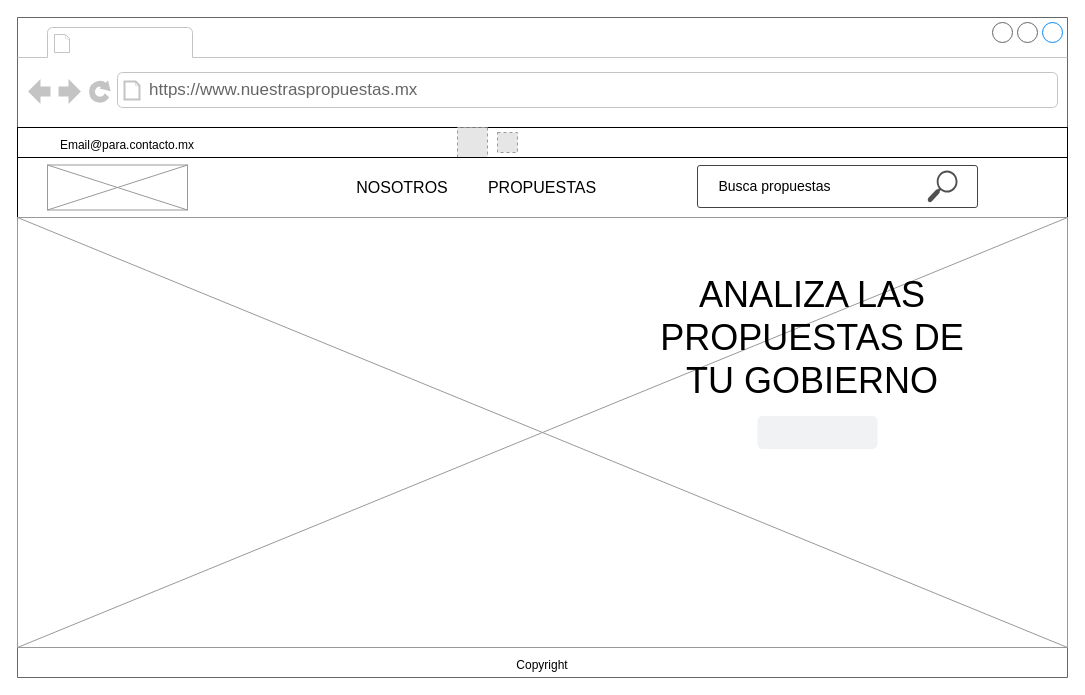
The diagram is 1085 pixels wide and 695 high, and some of its shapes have lost their labels. Grey dashed boxes stand in for pictures. The shapes that lost their labels are listed below. From the top down, each one's centre as x and y in pixels, then its label:
At (x=132, y=42): "Index".
At (x=817, y=432): "Conócelas".
